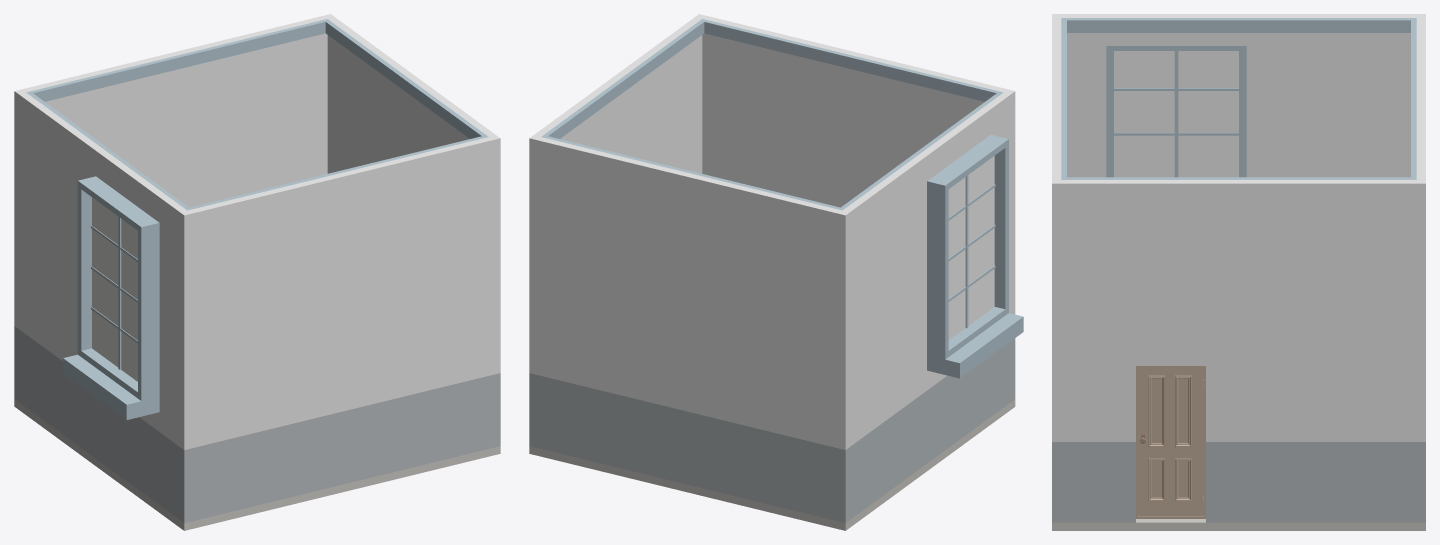
File: 877_room_view.glb
3 renders of one model, left to right at view 1: azimuth 30°, elevation 25°; view 2: azimuth 150°, elevation 25°; view 3: azimuth 270°, elevation 25°, orthographic. The views are drawn at different scales.
Visible parts, largest first — view 1: kabe3, kabe4, kabe1, kabe2, 床; view 2: kabe1, kabe4, kabe3, kabe2, 床; view 3: kabe2, kabe4, 戸, kabe1, kabe3, 床.
Part boxes in pixels (x1=…): kabe3: x1=181, y1=135, x2=500, y2=523; kabe4: x1=14, y1=89, x2=195, y2=522; kabe1: x1=22, y1=14, x2=334, y2=207; kabe2: x1=325, y1=17, x2=500, y2=448; 床: x1=14, y1=399, x2=500, y2=530; kabe1: x1=529, y1=135, x2=848, y2=523; kabe4: x1=838, y1=89, x2=1023, y2=522; kabe3: x1=695, y1=14, x2=1007, y2=207; kabe2: x1=534, y1=17, x2=704, y2=173; 床: x1=529, y1=399, x2=1015, y2=530; kabe2: x1=1052, y1=177, x2=1425, y2=522; kabe4: x1=1052, y1=14, x2=1425, y2=177; 戸: x1=1138, y1=366, x2=1203, y2=516; kabe1: x1=1411, y1=18, x2=1425, y2=522; kabe3: x1=1052, y1=14, x2=1066, y2=522; 床: x1=1052, y1=519, x2=1425, y2=530.
Bounding box in the file's own units: 4.75 × 4.1 × 4.
